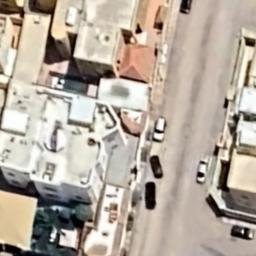SUV: (151, 116, 167, 144), (230, 224, 256, 240)
sedan: (140, 180, 161, 211), (147, 154, 167, 180), (194, 160, 208, 186), (176, 0, 194, 16)
